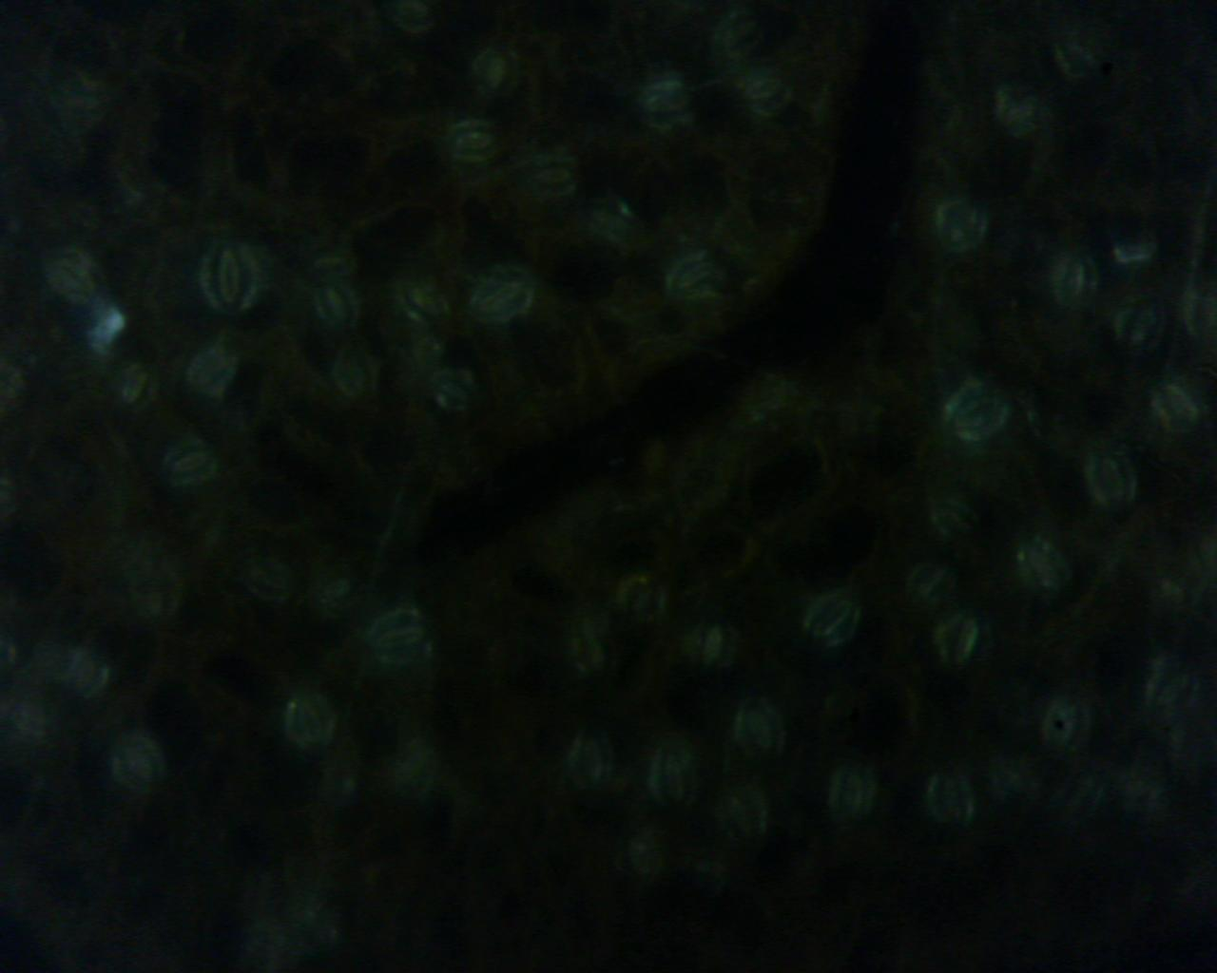stomata: (202, 244, 257, 310), (938, 614, 991, 669), (371, 615, 430, 662), (946, 389, 1009, 433), (655, 743, 697, 807), (639, 74, 691, 122), (475, 48, 522, 99), (741, 698, 783, 755), (449, 119, 502, 164), (833, 768, 875, 824), (1044, 698, 1090, 749), (1092, 448, 1133, 505), (574, 729, 612, 788), (473, 277, 532, 315), (49, 254, 97, 300), (928, 772, 974, 819), (742, 67, 790, 112), (53, 81, 109, 119), (694, 615, 732, 670), (1125, 297, 1165, 349), (292, 696, 335, 744), (724, 793, 763, 843), (941, 200, 980, 250), (1057, 257, 1098, 304), (528, 162, 582, 195), (1149, 668, 1194, 707), (620, 836, 659, 881), (318, 279, 351, 332), (340, 351, 378, 397), (1026, 542, 1060, 593), (121, 741, 160, 785), (396, 750, 434, 795), (136, 581, 177, 620), (813, 600, 853, 639), (1059, 36, 1100, 74), (163, 448, 211, 480), (1063, 773, 1094, 822), (908, 569, 955, 601), (578, 621, 606, 674), (72, 654, 108, 695), (403, 287, 447, 320), (1165, 384, 1198, 428), (200, 347, 233, 390), (431, 377, 474, 410), (1003, 91, 1040, 129), (591, 204, 634, 236), (249, 563, 291, 595), (121, 367, 152, 409), (937, 504, 977, 536), (672, 262, 713, 291), (723, 16, 759, 49), (998, 762, 1035, 793), (315, 577, 355, 605), (627, 582, 662, 614)
